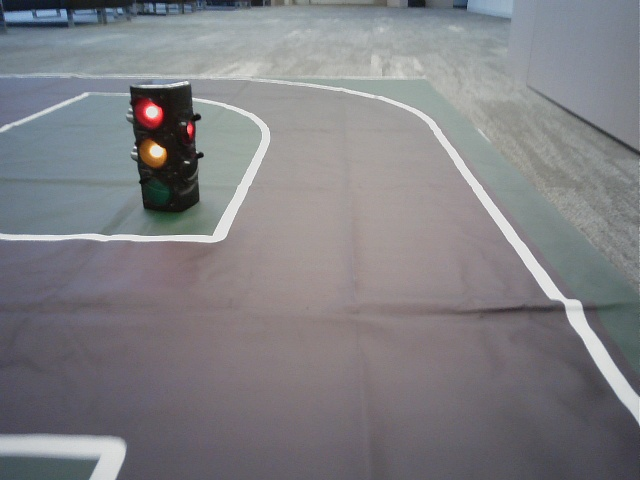red: (135, 91, 170, 204)
